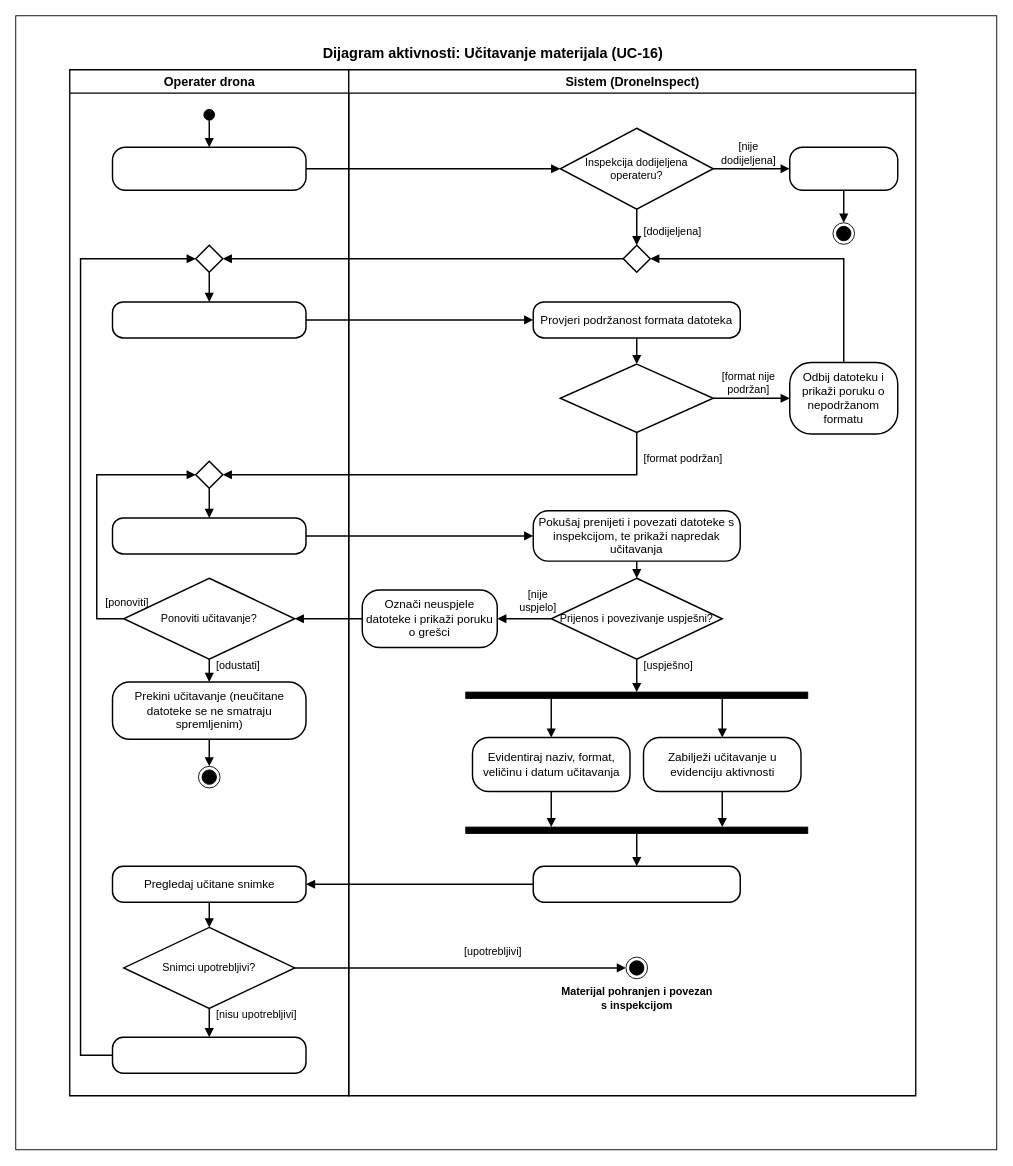
The diagram is 1013 pixels wide and 1166 high, and some of its shapes have lost their labels. The shapes that lost their labels are listed below. From the top down, each one's box as (x1, y1, x2, y2) in pixels, then its label:
(111, 146, 306, 190): Otvori dodijeljenu inspekciju i odaberi „Učitaj materijal“
(789, 146, 898, 190): Odbij pristup i prikaži poruku
(111, 301, 306, 338): Odaberi fotografije i videozapise
(559, 363, 714, 433): Format podržan?
(111, 517, 306, 554): Potvrdi učitavanje
(532, 865, 741, 903): Prikaži učitane datoteke operateru
(111, 1036, 306, 1074): Pripremi dodatni materijal
